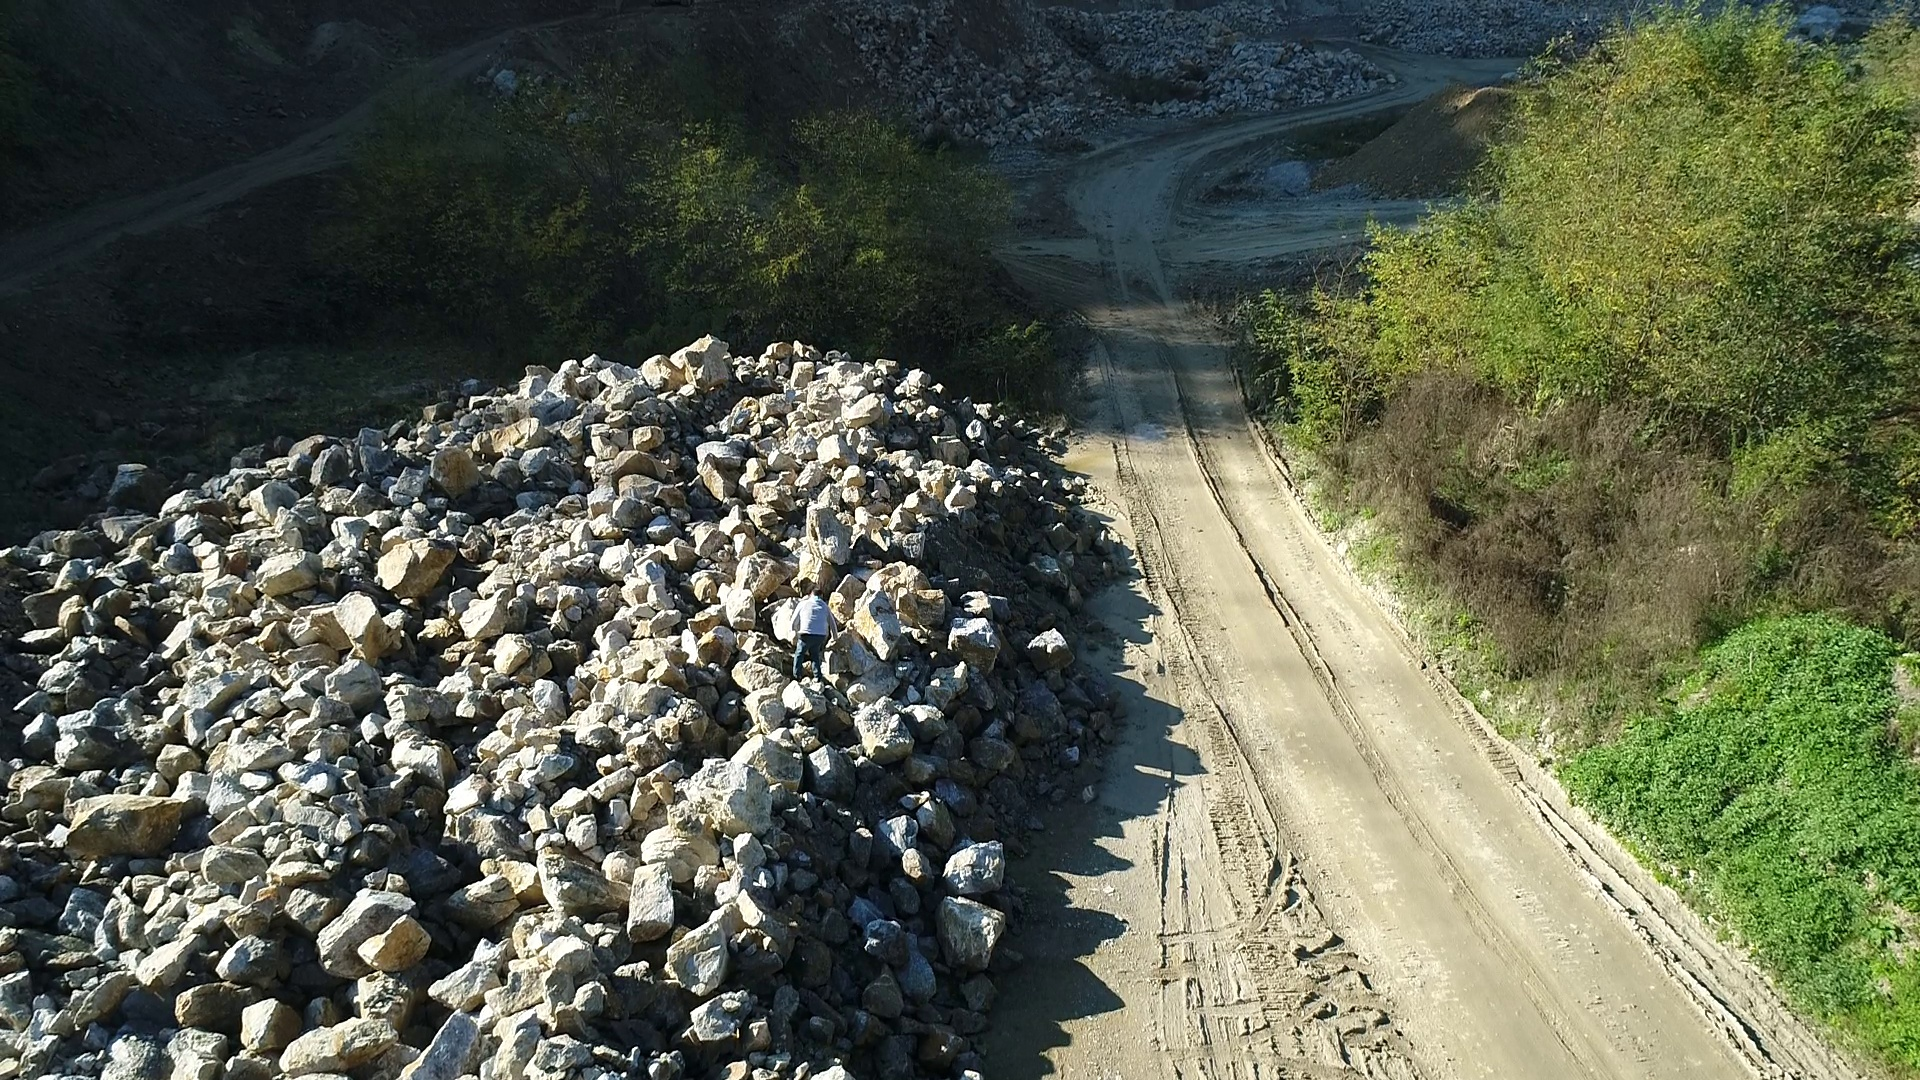person: (791, 588, 840, 681)
